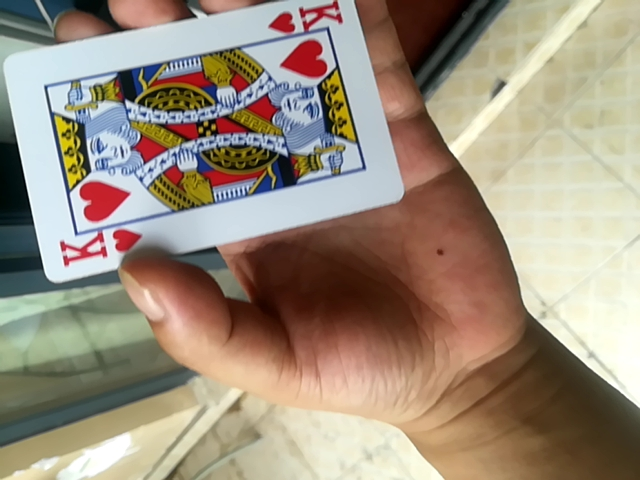hx k: (8, 1, 395, 293)
